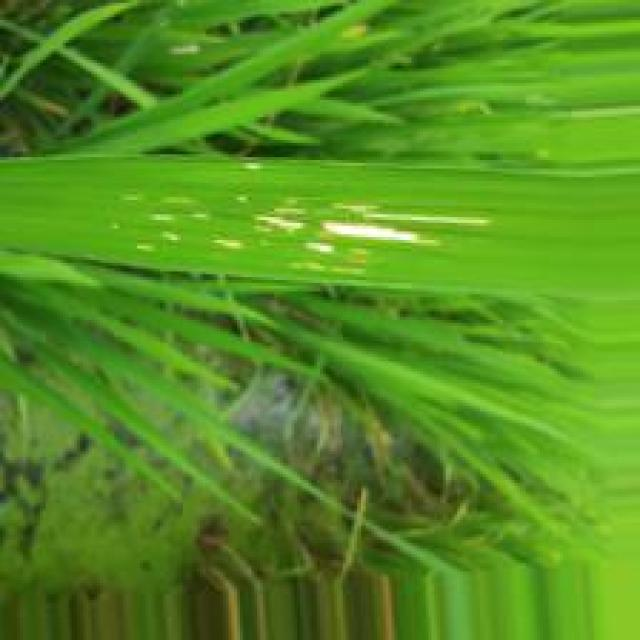Rice_Hispa: (342, 202, 498, 227), (316, 220, 426, 245)
